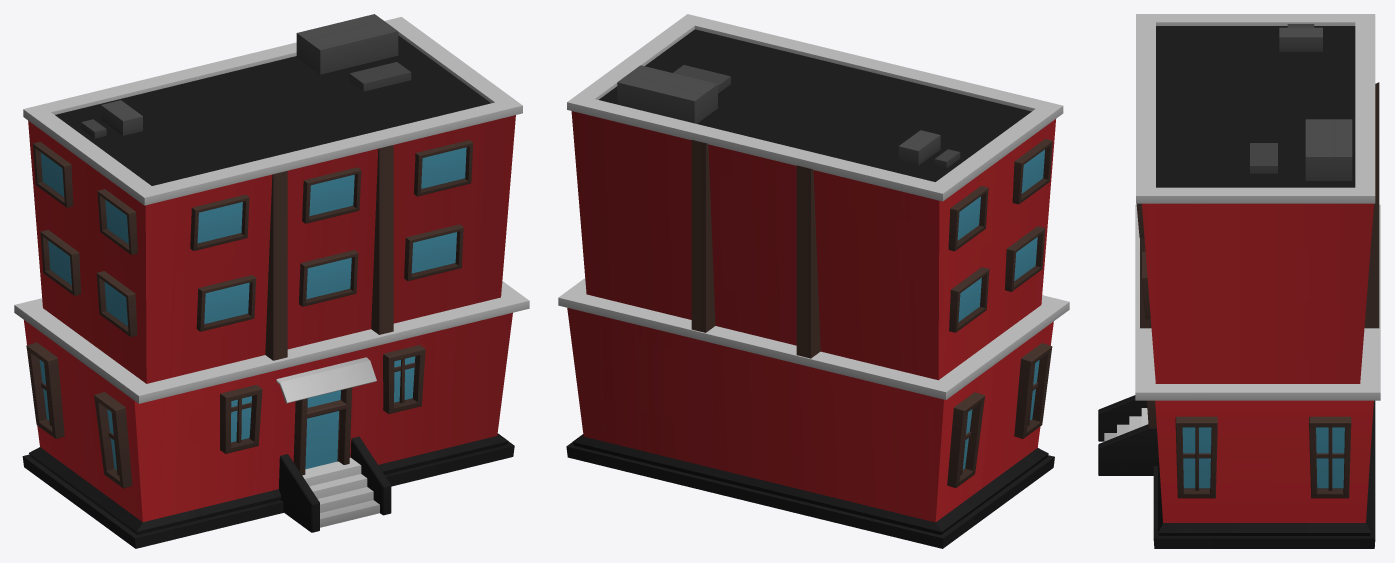
The model's file is building_08.fbx.
The picture shows the model from 3 angles, left to right: view 1: azimuth 30°, elevation 25°; view 2: azimuth 150°, elevation 25°; view 3: azimuth 270°, elevation 25°; orthographic projection.
Visible parts, largest first — view 1: building_08; view 2: building_08; view 3: building_08.
Boxes of the visible parts, <box> form: building_08: <box>14,14,529,548</box>; building_08: <box>558,14,1069,548</box>; building_08: <box>1098,14,1380,548</box>.
Size of the model in its own units: 775 by 705 by 483.
